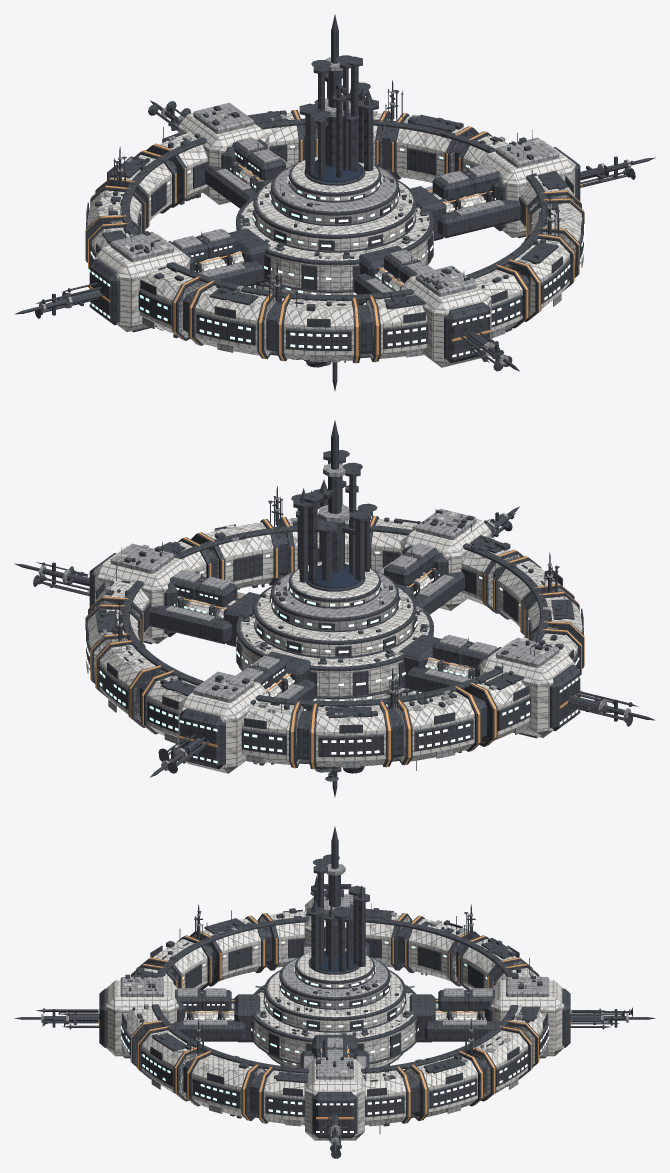
Rendered from aur-ark-carrier.glb.
The picture shows the model from 3 angles, top to bottom: view 1: azimuth 30°, elevation 25°; view 2: azimuth 150°, elevation 25°; view 3: azimuth 270°, elevation 25°; orthographic projection. The views are drawn at different scales.
Visible parts, largest first — view 1: Hull_Dark, Hull_White, Hull_Grey, Livery, Windows, Glass; view 2: Hull_Dark, Hull_White, Hull_Grey, Livery, Windows, Glass; view 3: Hull_Dark, Hull_White, Hull_Grey, Livery, Windows.
Boxes of the visible parts, x1=… form: Hull_Dark: x1=14, y1=14, x2=655, y2=390; Hull_White: x1=87, y1=113, x2=582, y2=367; Hull_Grey: x1=39, y1=57, x2=631, y2=364; Livery: x1=85, y1=110, x2=584, y2=363; Windows: x1=85, y1=145, x2=584, y2=357; Glass: x1=308, y1=160, x2=363, y2=182; Hull_Dark: x1=14, y1=420, x2=655, y2=796; Hull_White: x1=87, y1=512, x2=582, y2=773; Hull_Grey: x1=38, y1=463, x2=630, y2=770; Livery: x1=85, y1=516, x2=584, y2=769; Windows: x1=85, y1=551, x2=584, y2=763; Glass: x1=308, y1=564, x2=361, y2=588; Hull_Dark: x1=14, y1=826, x2=655, y2=1158; Hull_White: x1=105, y1=897, x2=564, y2=1140; Hull_Grey: x1=41, y1=864, x2=628, y2=1145; Livery: x1=98, y1=913, x2=571, y2=1123; Windows: x1=98, y1=941, x2=571, y2=1132.
Size of the model in its own units: 2532 by 1423 by 2532.
Materials: 7 (3 with a texture image).
